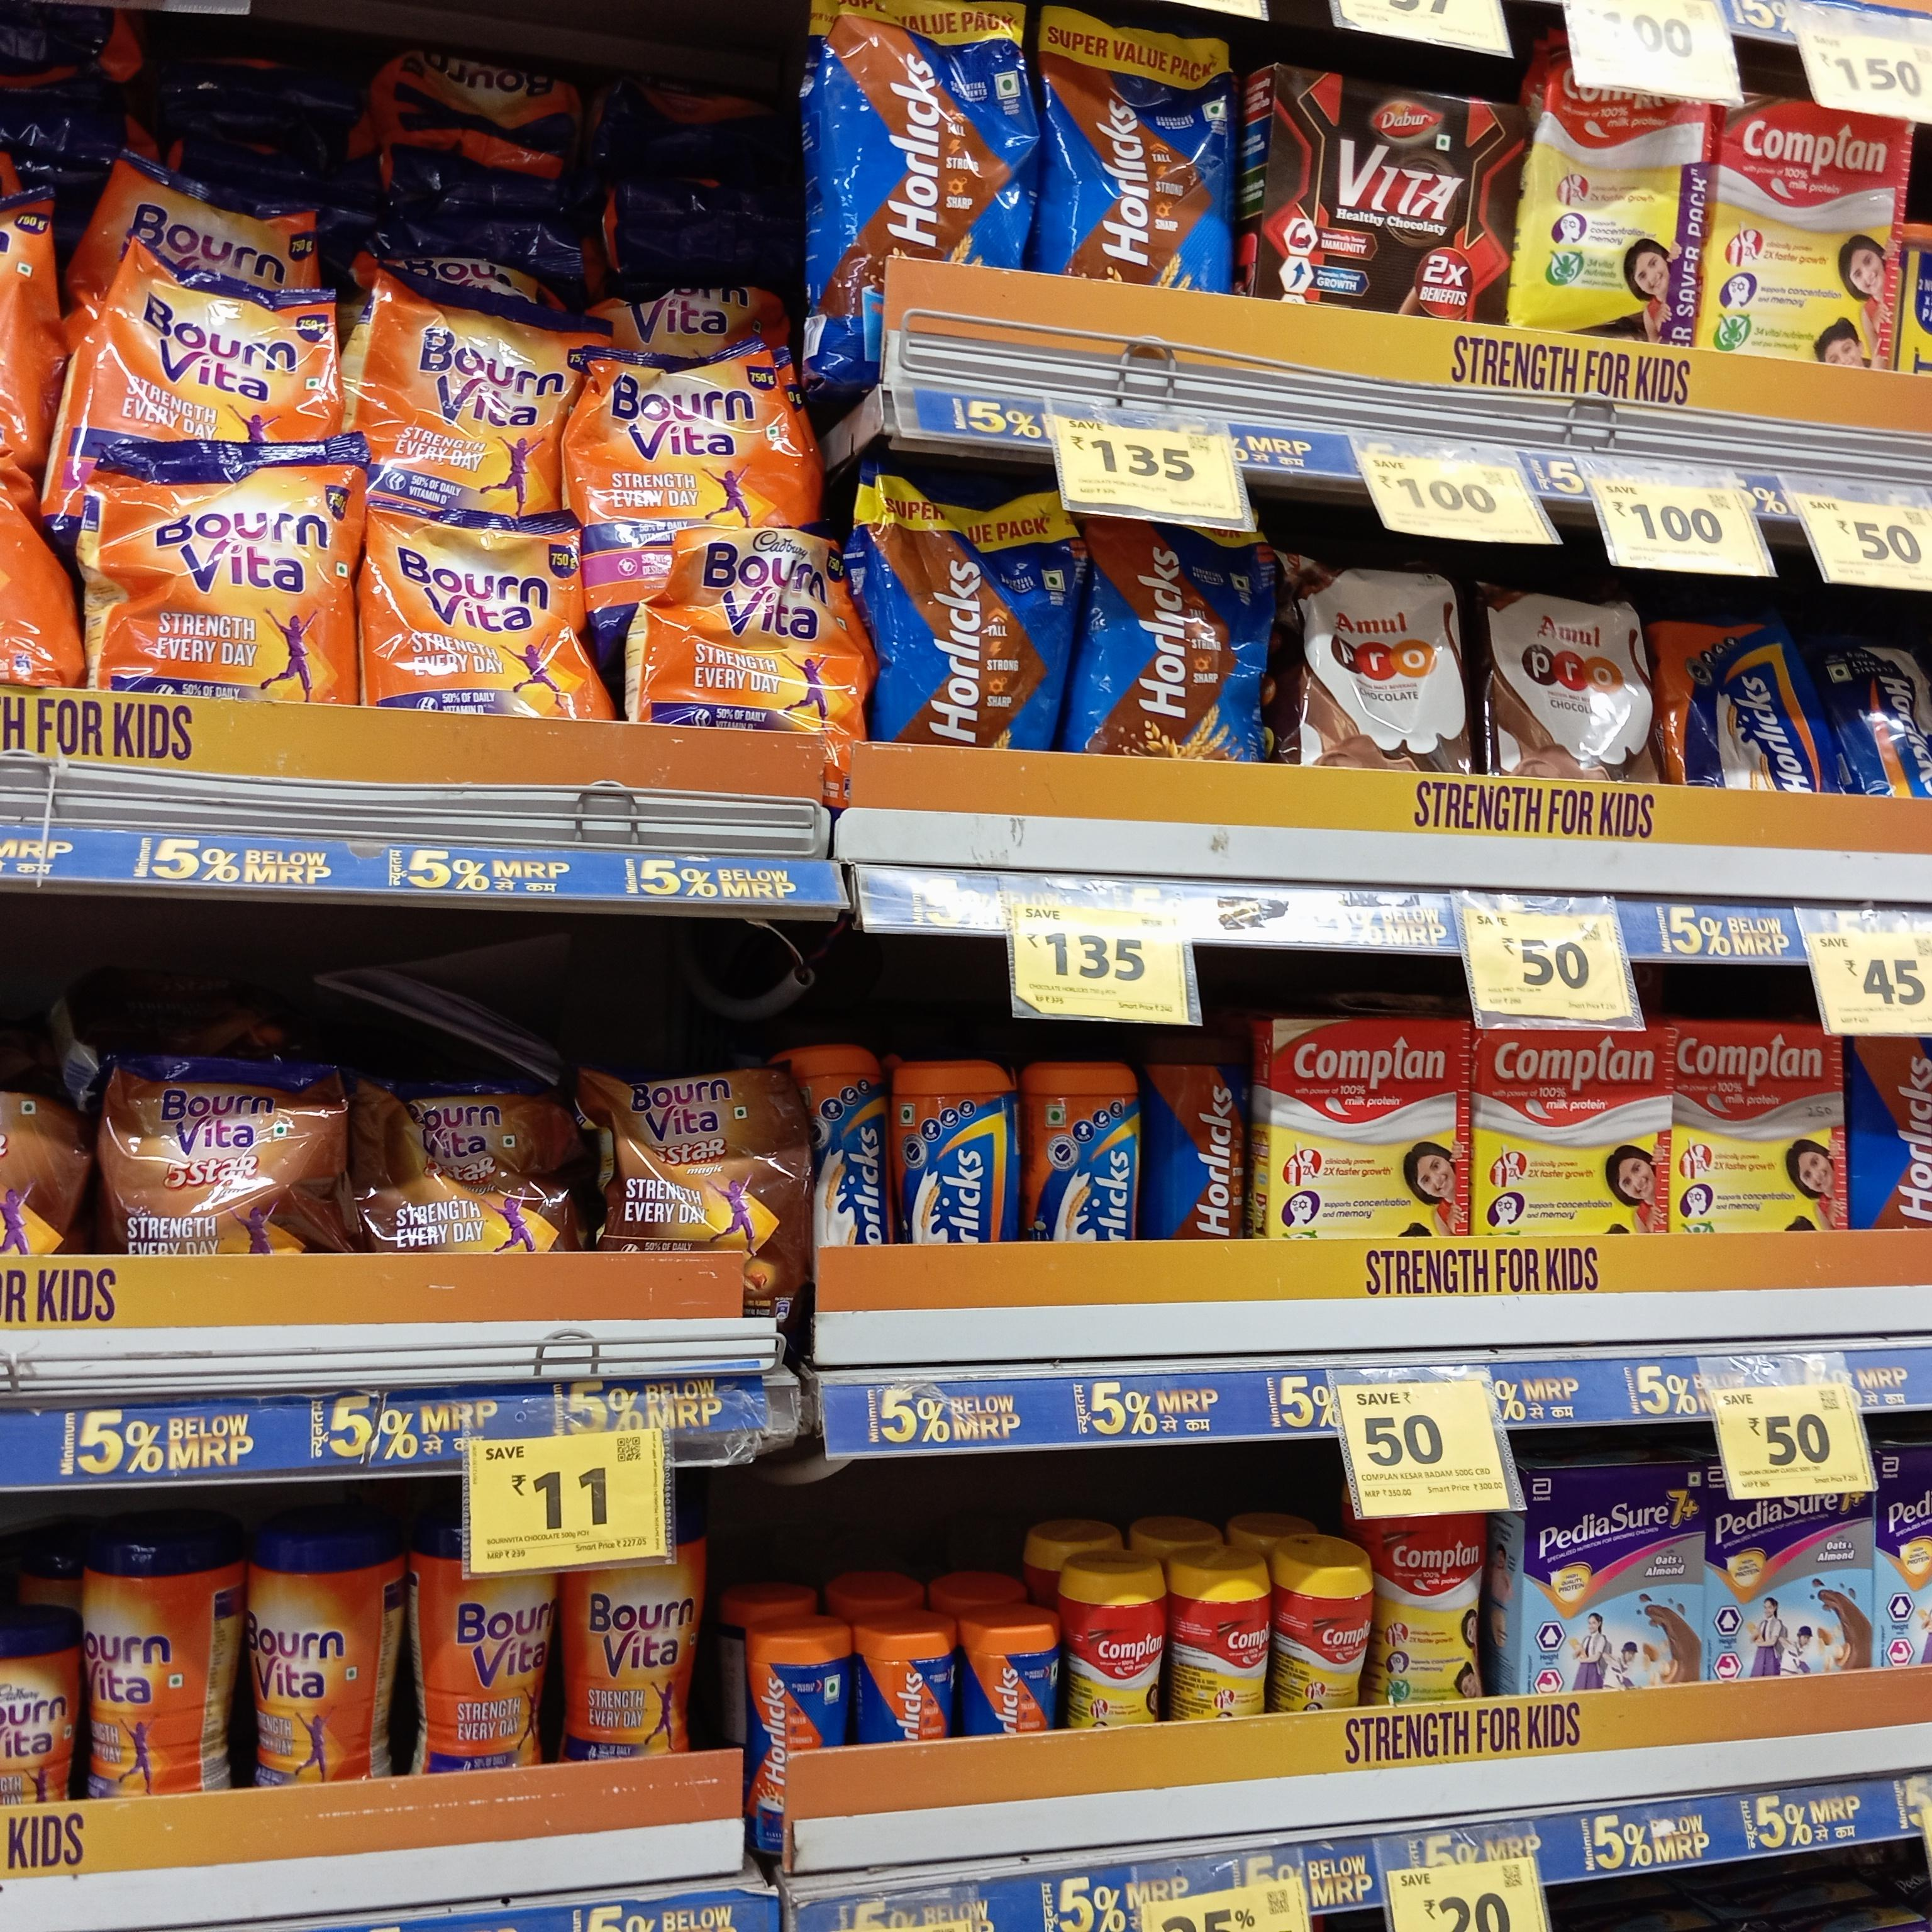BOURN_VITA_500_G_JAR: (246, 1532, 379, 1790), (71, 1532, 195, 1801), (423, 1557, 552, 1773), (570, 1545, 694, 1760)
BOURN_VITA_750_G_POUCH: (103, 444, 354, 702), (370, 271, 571, 501), (382, 504, 584, 722), (103, 248, 324, 439), (656, 518, 847, 734), (586, 347, 796, 517)
BOURN_VITA_FIVE_STAR_MAGIC_500_G_POUCH: (101, 1047, 306, 1256), (610, 1065, 801, 1261), (357, 1074, 561, 1254)
COMPLAN_CHOCOLATE_1_KG_PACK: (1718, 110, 1904, 359)
COMPLAN_KESAR_BADAM_500_GMS_PACK: (1272, 1019, 1465, 1237)
COMPLAN_RC_POUCH_700_GMS_12: (1525, 80, 1700, 347)
HORLICK_CHOCOLATE_750_G_POUCH: (876, 465, 1063, 745), (1047, 2, 1230, 288), (844, 0, 1033, 267), (1076, 522, 1274, 759)
HORLICK_CLASSIC_MALT_750_G_POUCH: (1651, 602, 1808, 796)
PEDIASURE_7_PLUS_CHOCOLATE_400_G_PACK: (1525, 1476, 1698, 1704), (1718, 1463, 1870, 1674)
